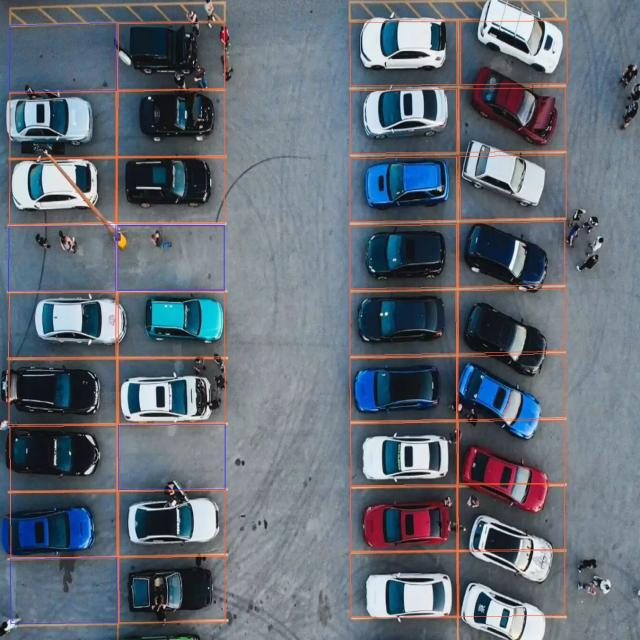empty: (9, 12, 118, 94), (8, 557, 120, 624), (6, 224, 116, 292), (116, 224, 225, 290), (117, 424, 226, 490)
occupied: (458, 550, 563, 634), (455, 287, 563, 363), (457, 145, 565, 220), (351, 13, 458, 88), (456, 218, 564, 290), (350, 83, 457, 154), (350, 287, 457, 356), (6, 357, 116, 424), (350, 153, 456, 222), (350, 222, 457, 290), (350, 354, 456, 422), (8, 491, 117, 557), (458, 484, 562, 553), (118, 358, 225, 425), (118, 488, 225, 555), (118, 21, 225, 88), (7, 424, 115, 490), (8, 290, 116, 356), (8, 89, 116, 155), (461, 84, 565, 152), (117, 290, 223, 356), (458, 418, 556, 489), (459, 21, 566, 85), (118, 556, 224, 620), (351, 422, 456, 486), (352, 488, 456, 552), (118, 155, 222, 219), (353, 555, 457, 619), (118, 90, 222, 152), (455, 363, 565, 421), (9, 157, 102, 219)
